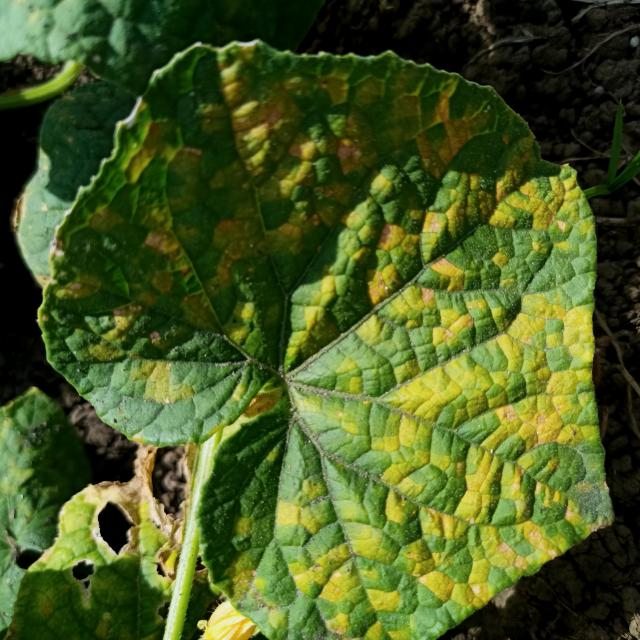disease_cucumber: (40, 52, 597, 640)
